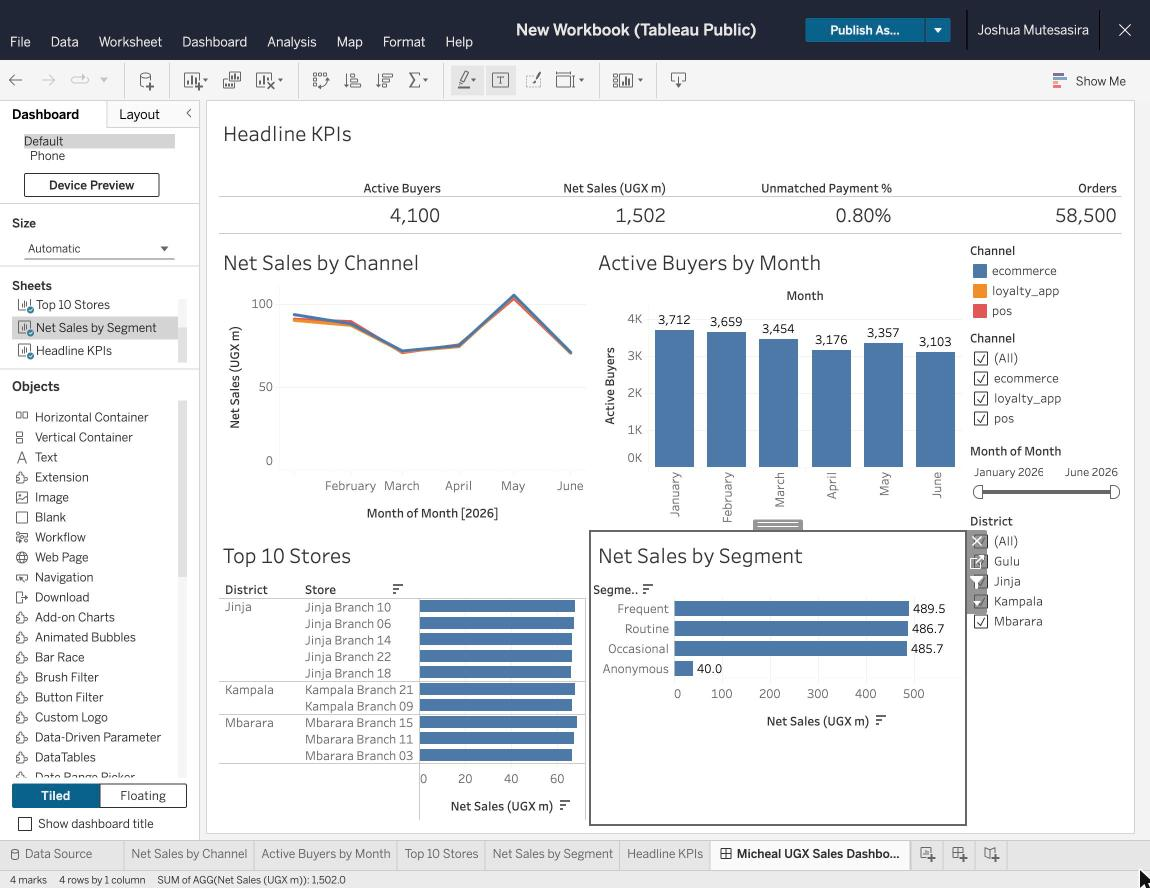

This screenshot's page, from the dashboard's own definition file:
{"tool":"tableau","page":{"name":"Micheal UGX Sales Dashboard","canvas":[1000,1000],"units":"permille","ordinal":0},"visuals":[{"type":"worksheet","title":"Headline KPIs","mark":"Automatic","box":[8.6,10.9,982.7,175.9]},{"type":"worksheet","title":"Net Sales by Channel","mark":"Automatic","rows":["Calculation_0014620332072961"],"cols":["Month"],"box":[8.6,186.8,405.1,401.1]},{"type":"worksheet","title":"Active Buyers by Month","mark":"Bar","rows":["Calculation_0014620332138498"],"cols":["Month"],"box":[413.7,186.8,405.1,401.1]},{"type":"legend","title":"Net Sales by Channel","param":"[federated.0rqo6y31fqtu8v12ue6ah0zu9rbe].[none:Channel:nk]","box":[818.8,186.8,172.6,118.9]},{"type":"filter","title":"Net Sales by Channel","param":"[federated.0rqo6y31fqtu8v12ue6ah0zu9rbe].[none:Channel:nk]","box":[818.8,305.7,172.6,154.4]},{"type":"filter","title":"Net Sales by Channel","param":"[federated.0rqo6y31fqtu8v12ue6ah0zu9rbe].[tmn:Month:qk]","box":[818.8,460.1,172.6,95.6]},{"type":"filter","title":"Top 10 Stores","param":"[federated.0rqo6y31fqtu8v12ue6ah0zu9rbe].[none:District:nk]","box":[818.8,555.7,172.6,181.7]},{"type":"worksheet","title":"Top 10 Stores","mark":"Automatic","rows":["District","Store"],"cols":["Calculation_0014620332072961"],"box":[8.6,588,405.1,401.1]},{"type":"worksheet","title":"Net Sales by Segment","mark":"Automatic","rows":["Segment"],"cols":["Calculation_0014620332072961"],"box":[413.7,588,405.1,401.1]}]}

Visuals, with their boxes on the dashboard's canvas, which has no fixed pixel size, in thousandths of its width and height (x1, y1, x2, y2). These are canvas units, not pixel positions in the 1150x888 screenshot, which may show the page scaled, cropped or inside an application window:
"Headline KPIs" worksheet: [9,11,991,187]
"Net Sales by Channel" worksheet: [9,187,414,588]
"Active Buyers by Month" worksheet (Bar marks): [414,187,819,588]
"Net Sales by Channel" legend: [819,187,991,306]
"Net Sales by Channel" filter: [819,306,991,460]
"Net Sales by Channel" filter: [819,460,991,556]
"Top 10 Stores" filter: [819,556,991,737]
"Top 10 Stores" worksheet: [9,588,414,989]
"Net Sales by Segment" worksheet: [414,588,819,989]
